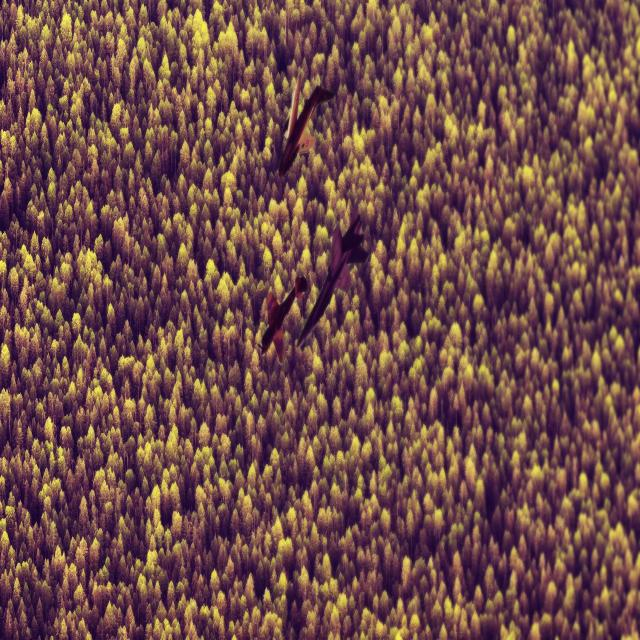airplane: (296, 210, 368, 350), (276, 73, 335, 178), (257, 273, 308, 363)
